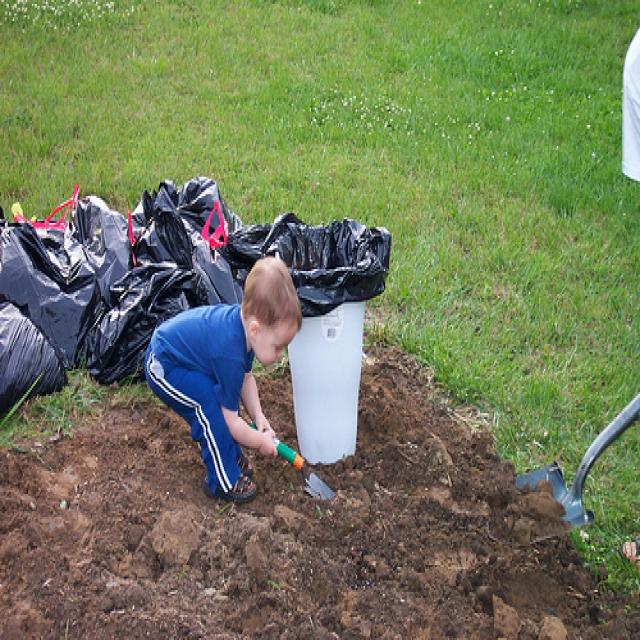child: (142, 244, 322, 520)
